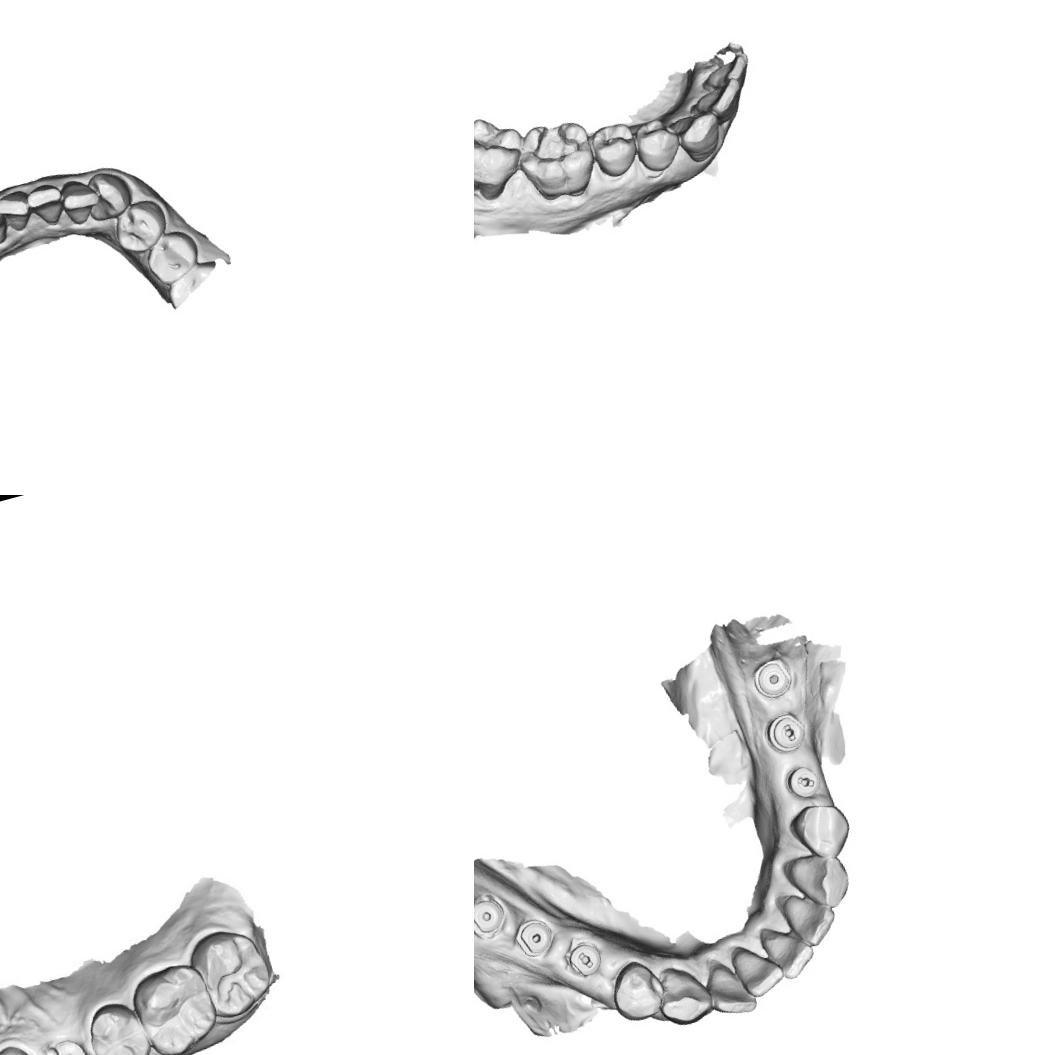canine: (787, 844, 858, 918), (650, 962, 718, 1032), (667, 104, 728, 168), (80, 164, 137, 224)
implant: (748, 651, 798, 705), (510, 914, 558, 964), (474, 888, 513, 946), (46, 1030, 90, 1055)
implant_minus: (758, 707, 810, 757), (558, 934, 609, 983), (777, 759, 826, 803)
incisor: (776, 884, 843, 954), (758, 917, 820, 984), (700, 959, 759, 1022), (733, 938, 789, 1002), (54, 172, 105, 229), (688, 74, 749, 120), (22, 178, 69, 230), (695, 52, 752, 92), (0, 186, 37, 236), (0, 198, 11, 251)
inlay: (520, 114, 588, 174)
molar: (130, 959, 224, 1055), (189, 922, 275, 1014), (474, 107, 537, 208)
premolar: (600, 953, 672, 1028), (781, 793, 857, 864), (107, 194, 174, 258), (139, 224, 204, 288), (83, 1001, 155, 1055), (586, 115, 644, 182), (628, 112, 686, 176)
